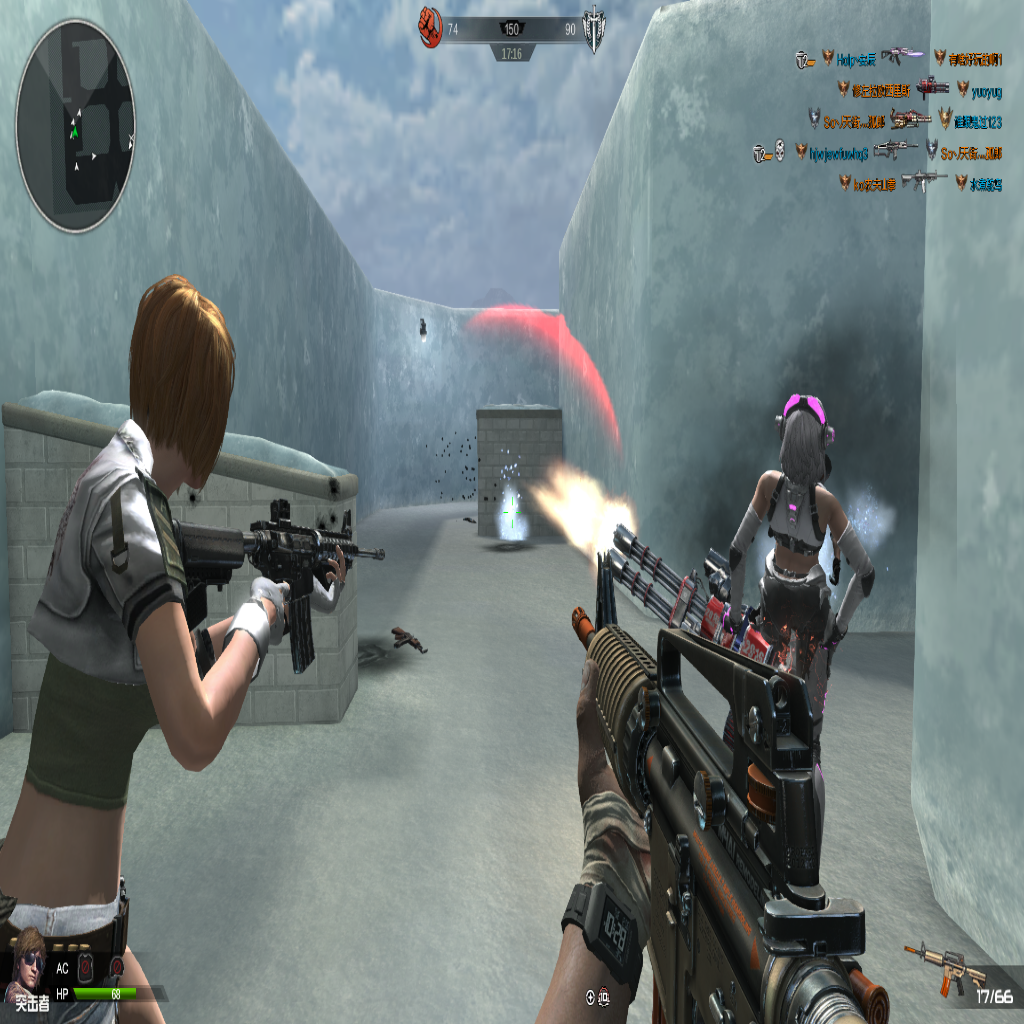tt: (715, 388, 871, 677)
